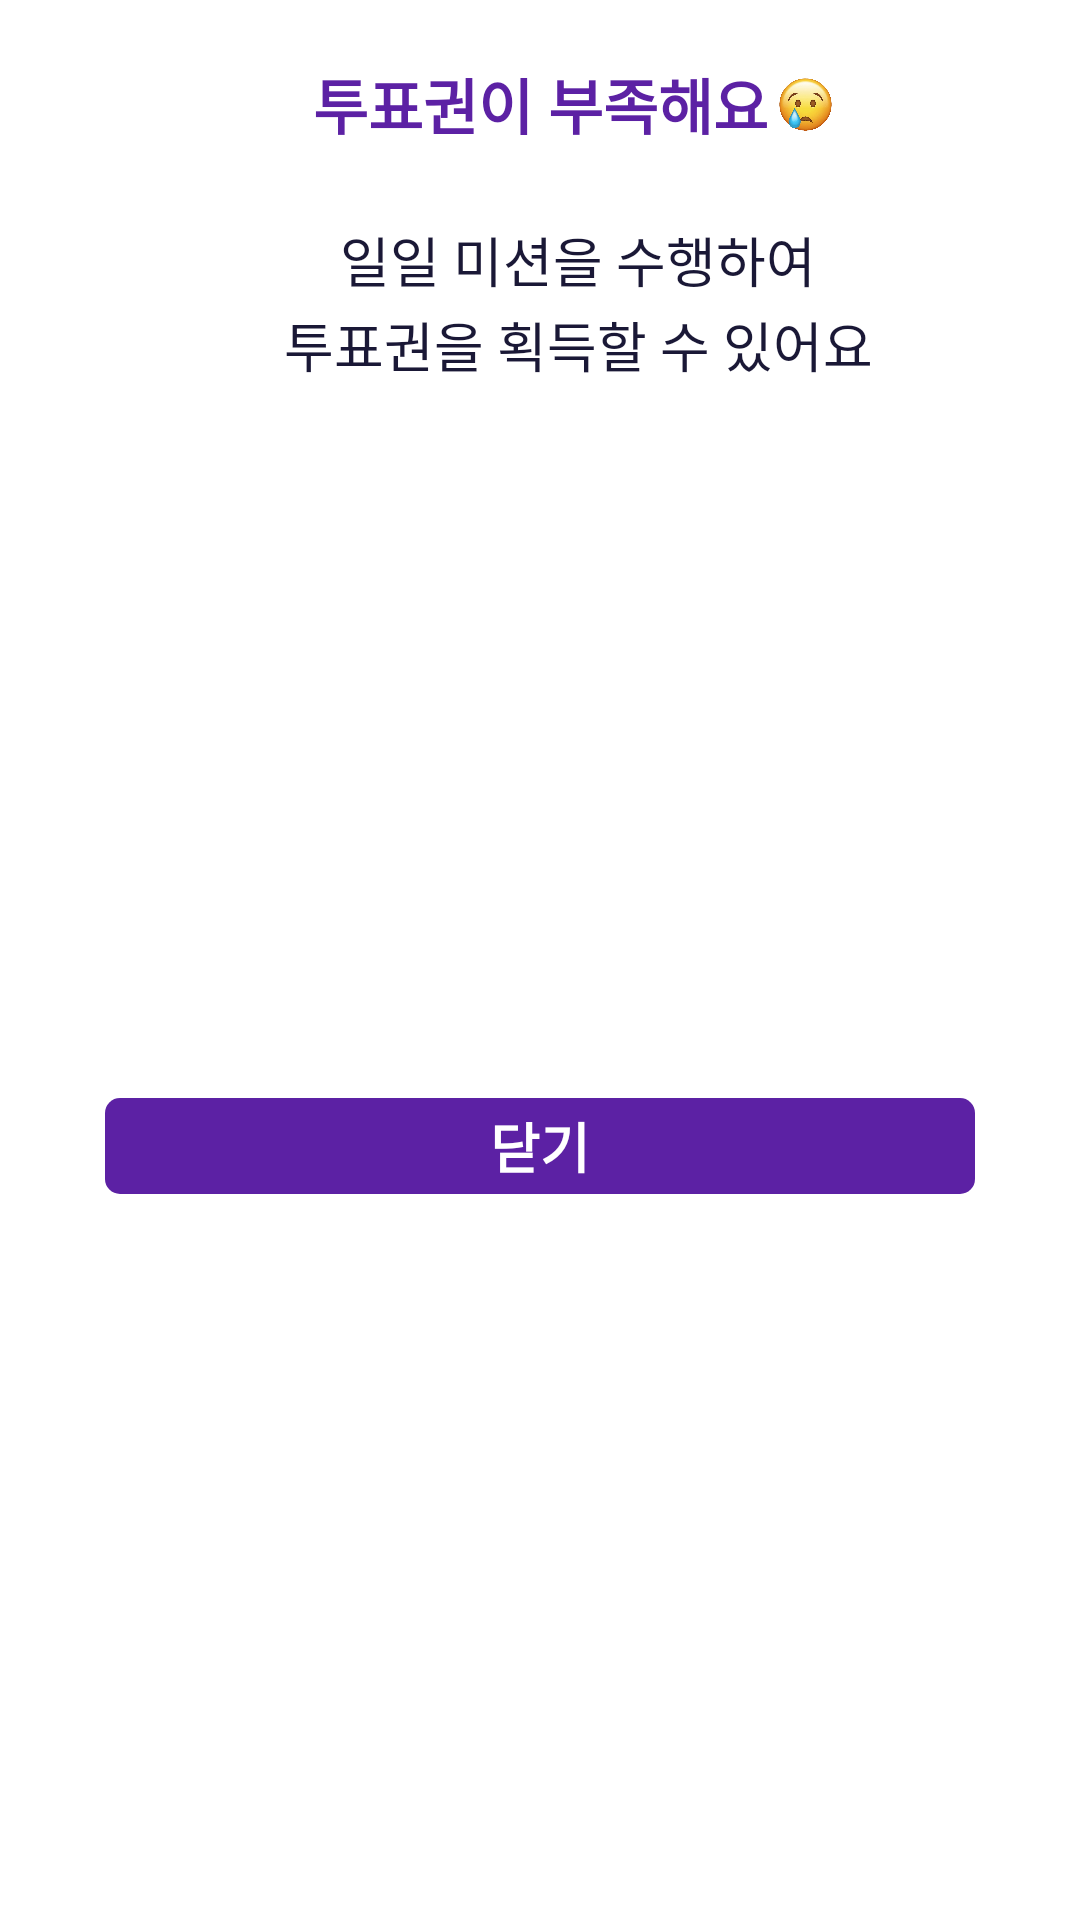

Icons on this 1080*1920 Android screen, each with its box as (x1, y1, x2, y2):
sad face: (779, 78, 832, 131)
